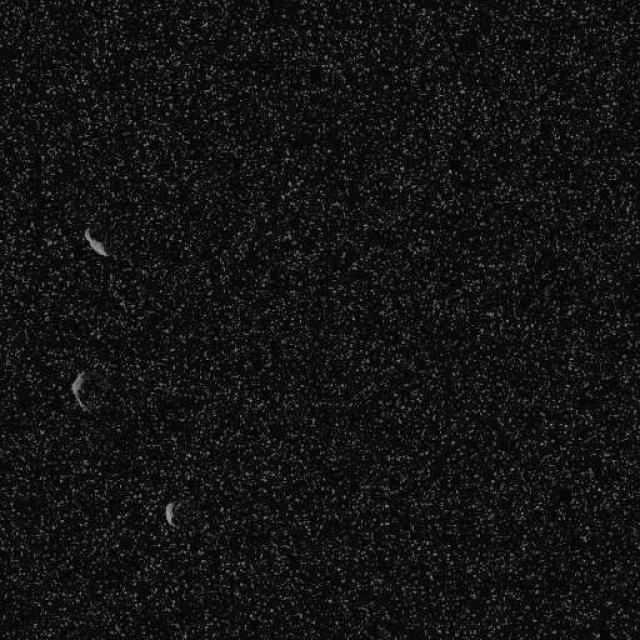D2: (81, 226, 109, 258), (69, 369, 90, 411), (162, 500, 178, 528)
